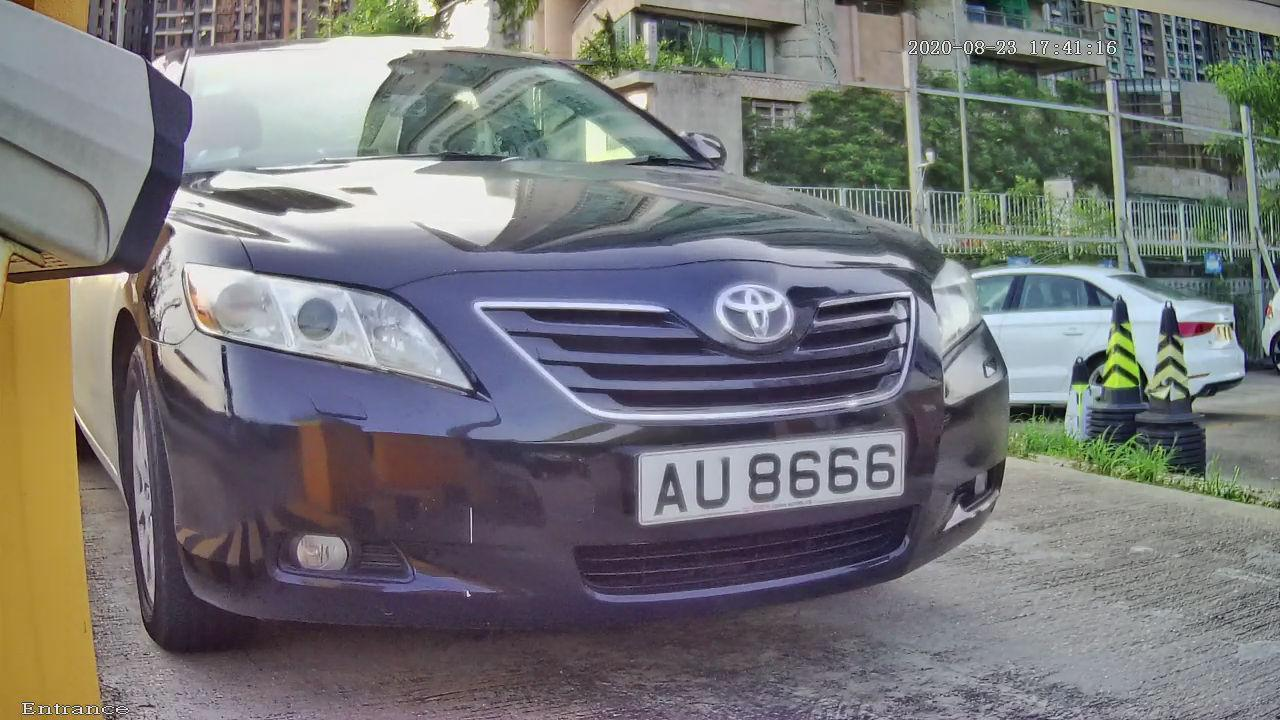Car: (29, 10, 1103, 679)
License Plate: (588, 391, 984, 559)
